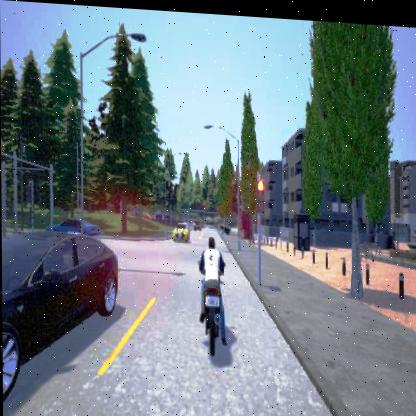motobike: (196, 233, 227, 351)
vehicle: (1, 212, 117, 407), (172, 219, 188, 239)
